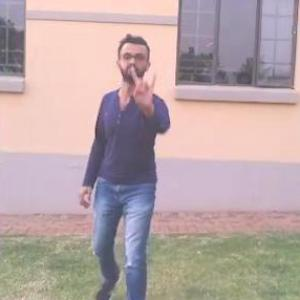takeoff-hand: (124, 59, 164, 115)
